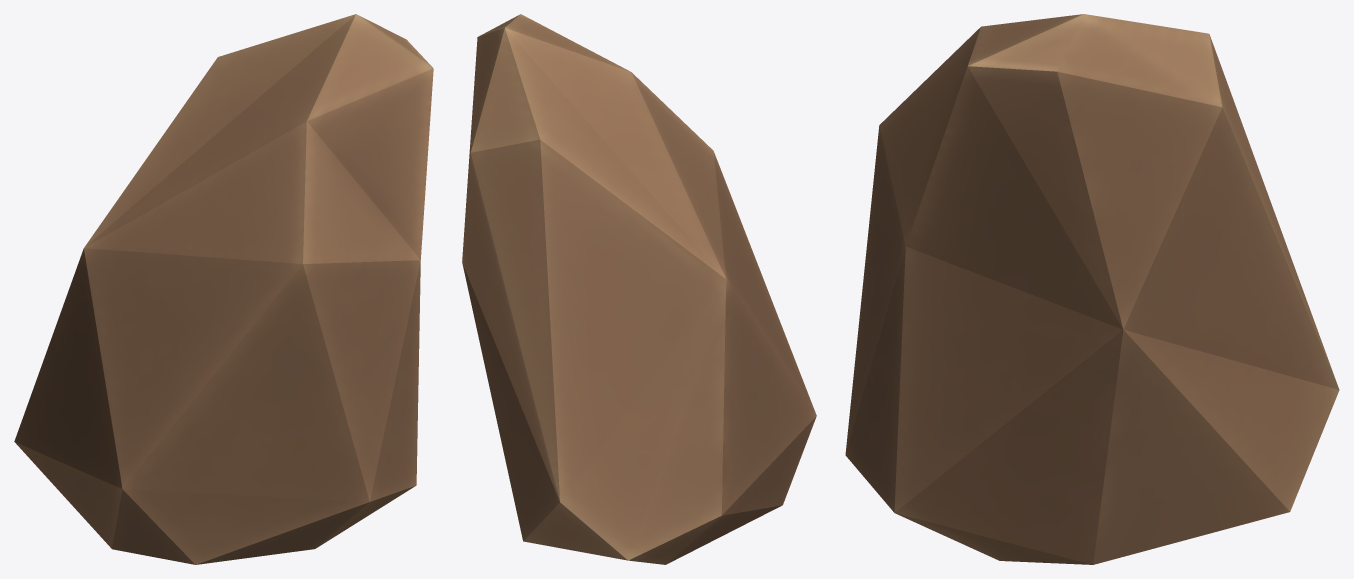
File: Rock_14.fbx
3 views of the same model, side by side, from view 1: azimuth 30°, elevation 25°; view 2: azimuth 150°, elevation 25°; view 3: azimuth 270°, elevation 25° (orthographic). The views are drawn at different scales.
Visible parts, largest first — view 1: Rock_14; view 2: Rock_14; view 3: Rock_14.
Boxes of the visible parts, x1,y1,x2,y2 form: Rock_14: (14,14,433,564); Rock_14: (462,14,816,564); Rock_14: (845,14,1339,564).
Size of the model in its own units: 26.79 by 35.74 by 28.58.
